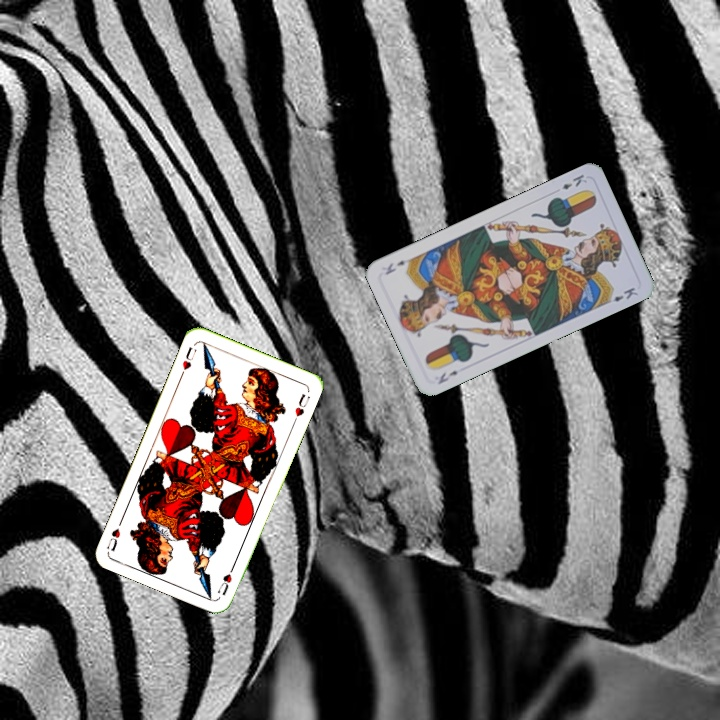EK: (558, 170, 590, 192), (434, 366, 461, 387)
HU: (214, 560, 238, 598), (177, 343, 199, 379)
